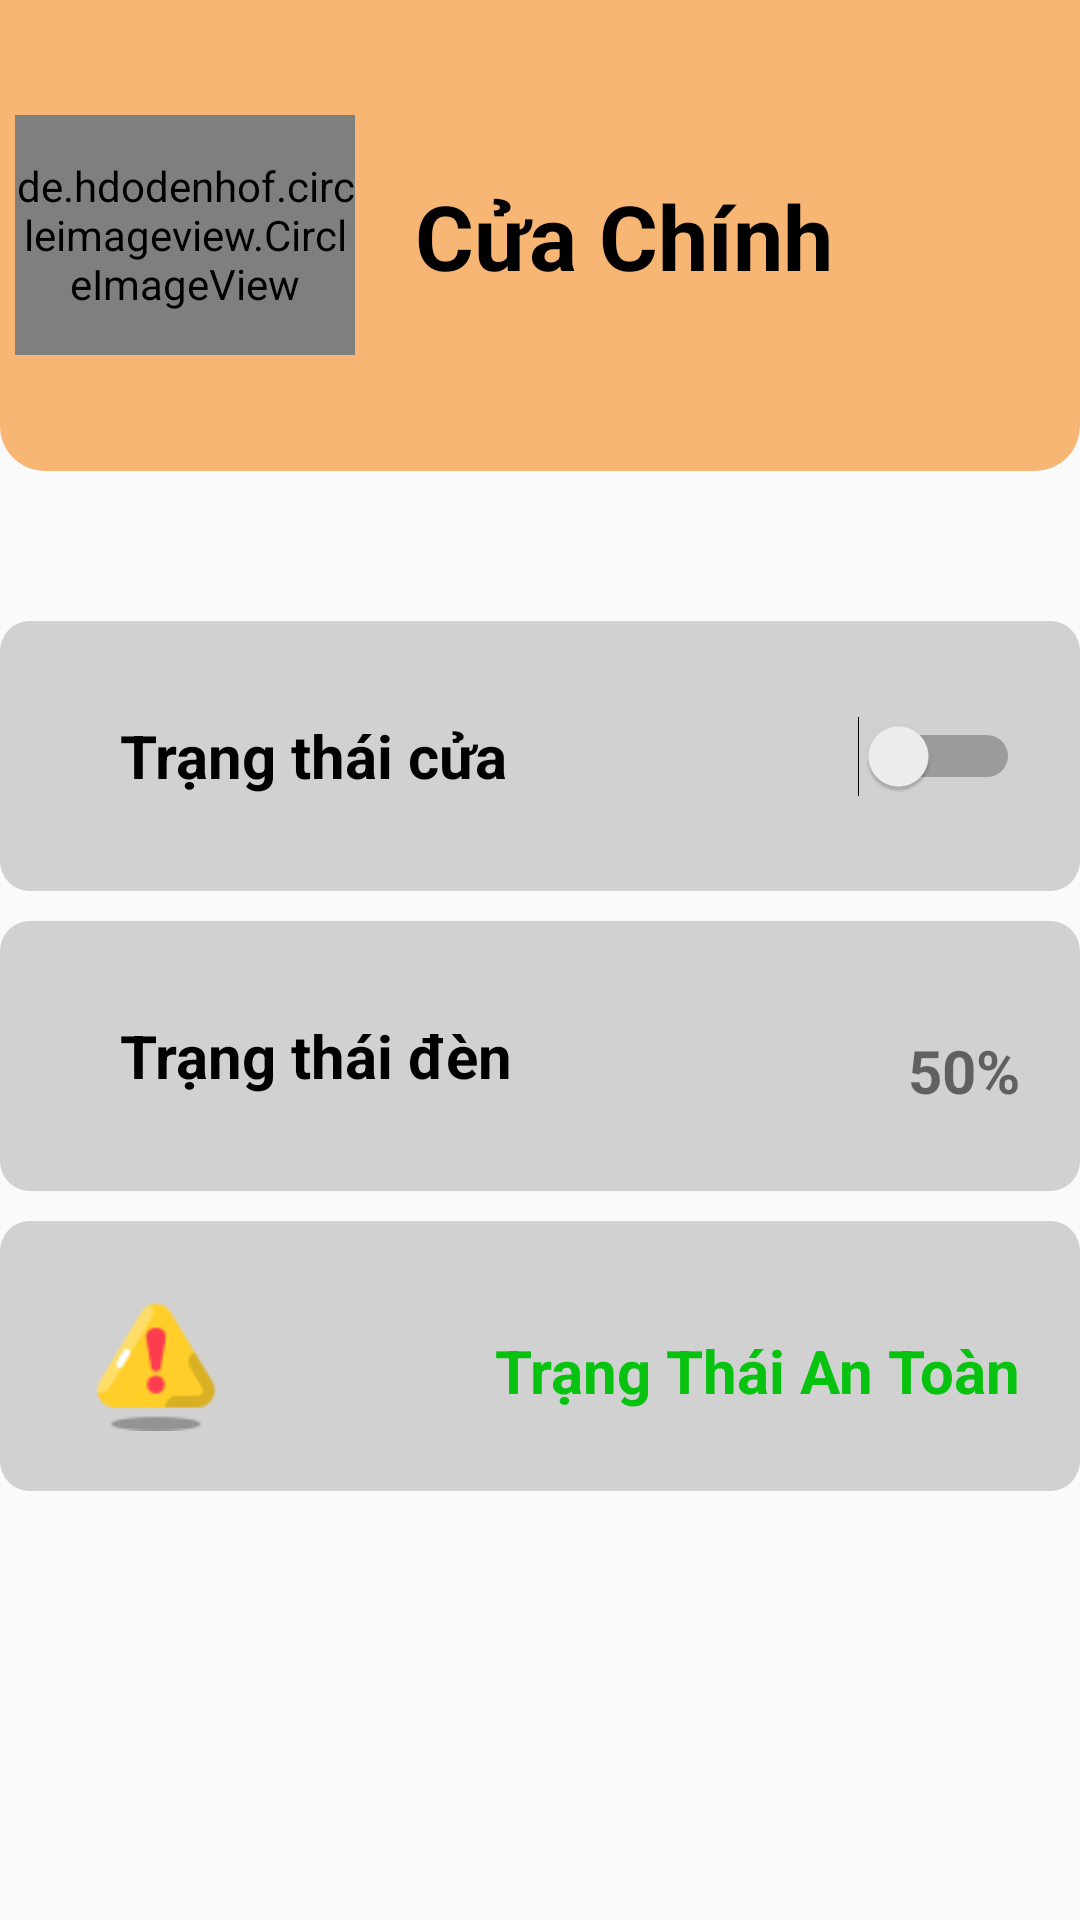

Screen size 1080px x 1920px. Icon name, then its box in pixels as (x1,y1,x2,y2):
warning: (97,1303,215,1431)
